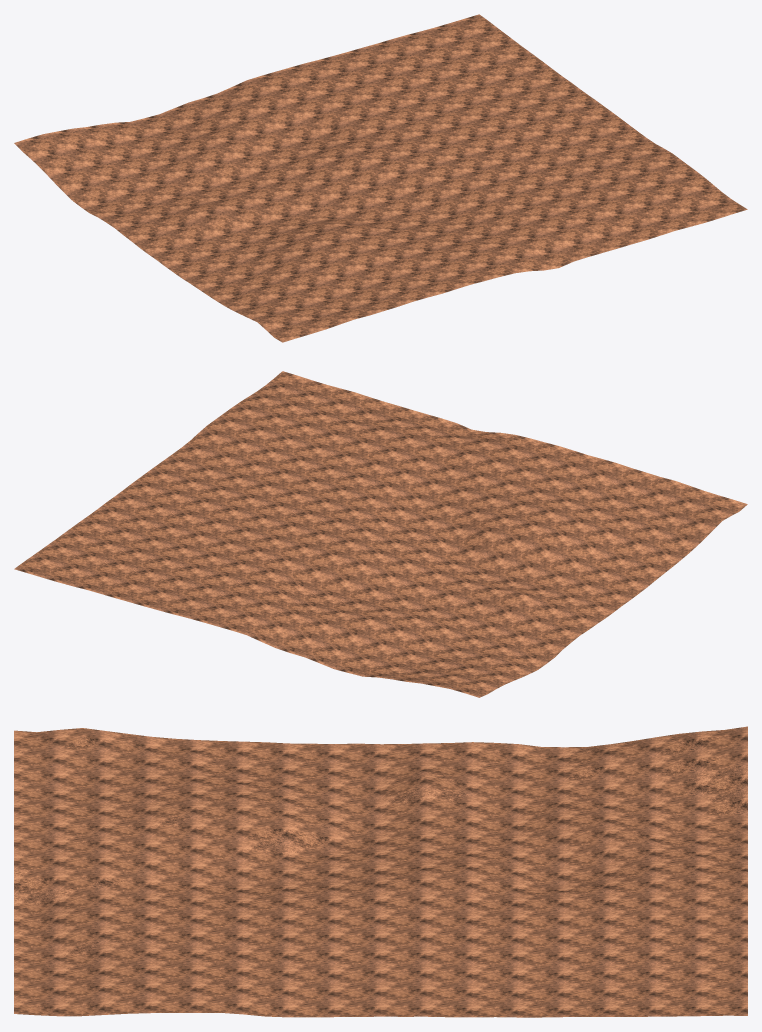
The model's file is terrain_05_20.dae.
3 views of the same model, one above another, from view 1: azimuth 30°, elevation 25°; view 2: azimuth 150°, elevation 25°; view 3: azimuth 270°, elevation 25° (orthographic). The views are drawn at different scales.
Visible parts, largest first — view 1: terrain_05_20-node; view 2: terrain_05_20-node; view 3: terrain_05_20-node.
Boxes of the visible parts, x1,y1,x2,y2 form: terrain_05_20-node: (14, 14, 747, 342); terrain_05_20-node: (14, 371, 747, 697); terrain_05_20-node: (14, 726, 747, 1017).
Size of the model in its own units: 128 by 128 by 8.57.
Materials: 1 (1 with a texture image).
